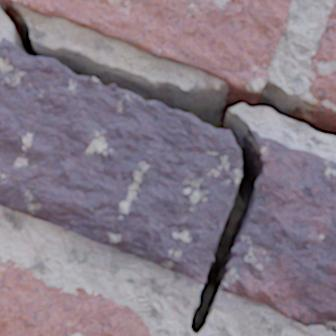brick: (2, 0, 291, 92), (0, 256, 151, 335), (306, 2, 335, 112)
broken_brick: (0, 38, 241, 282), (220, 130, 335, 332)
crack: (0, 0, 335, 334)
